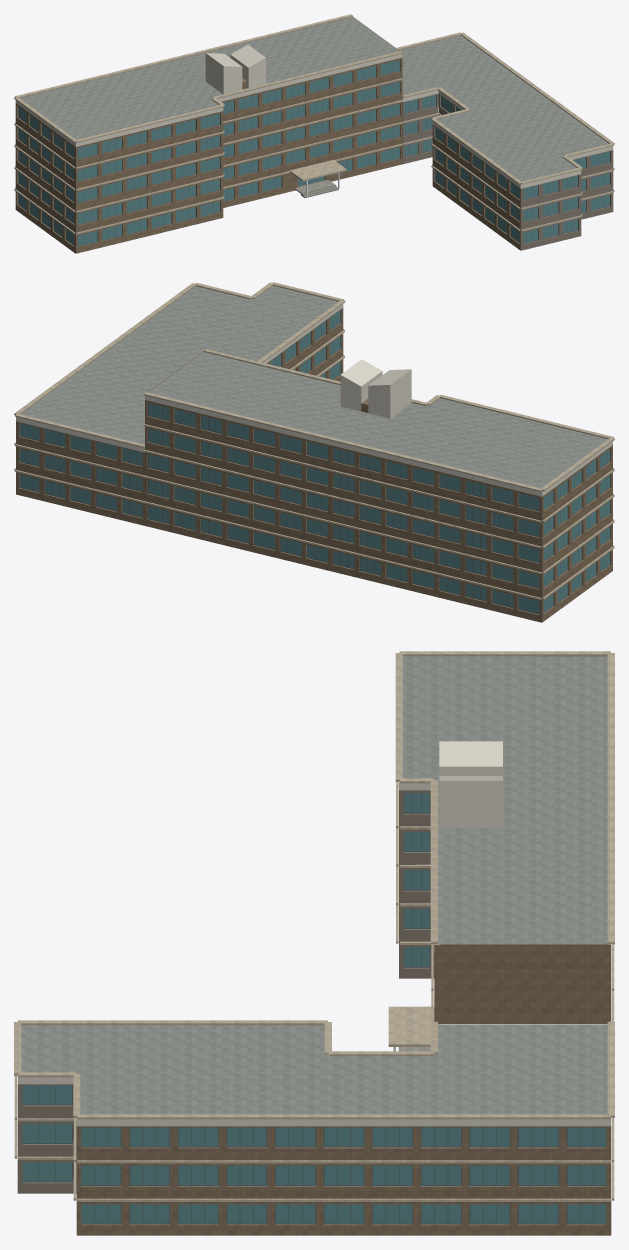
3 views of the same model, one above another, from view 1: azimuth 30°, elevation 25°; view 2: azimuth 150°, elevation 25°; view 3: azimuth 270°, elevation 25° (orthographic). The views are drawn at different scales.
Visible parts, largest first — view 1: oceanScience__roof, oceanScience__stone, oceanScience__glass, oceanScience__trim, oceanScience__frame, oceanScience__end-core, oceanScience__upper-cream, oceanScience__roof-crown; view 2: oceanScience__stone, oceanScience__roof, oceanScience__glass, oceanScience__trim, oceanScience__frame, oceanScience__upper-cream, oceanScience__roof-crown; view 3: oceanScience__roof, oceanScience__stone, oceanScience__glass, oceanScience__trim, oceanScience__frame, oceanScience__end-core, oceanScience__roof-crown, oceanScience__upper-cream.
Part boxes in pixels (x1,y1,x2,y2): oceanScience__roof: [20, 17, 608, 181]; oceanScience__stone: [15, 17, 611, 253]; oceanScience__glass: [18, 60, 609, 246]; oceanScience__trim: [14, 14, 614, 234]; oceanScience__frame: [18, 60, 609, 246]; oceanScience__end-core: [220, 93, 613, 250]; oceanScience__upper-cream: [15, 54, 613, 188]; oceanScience__roof-crown: [205, 44, 265, 94]; oceanScience__stone: [16, 308, 612, 622]; oceanScience__roof: [21, 286, 607, 488]; oceanScience__glass: [19, 310, 609, 613]; oceanScience__trim: [14, 282, 614, 599]; oceanScience__frame: [19, 316, 609, 614]; oceanScience__upper-cream: [16, 299, 612, 496]; oceanScience__roof-crown: [340, 359, 411, 418]; oceanScience__roof: [21, 656, 607, 1114]; oceanScience__stone: [77, 790, 611, 1235]; oceanScience__glass: [22, 793, 606, 1223]; oceanScience__trim: [14, 651, 614, 1201]; oceanScience__frame: [22, 793, 606, 1224]; oceanScience__end-core: [17, 790, 434, 1234]; oceanScience__roof-crown: [439, 741, 502, 828]; oceanScience__upper-cream: [17, 781, 611, 1126].
Bounding box in the file's own units: 81.92 × 24.47 × 53.78.
9 materials, 4 textured.
